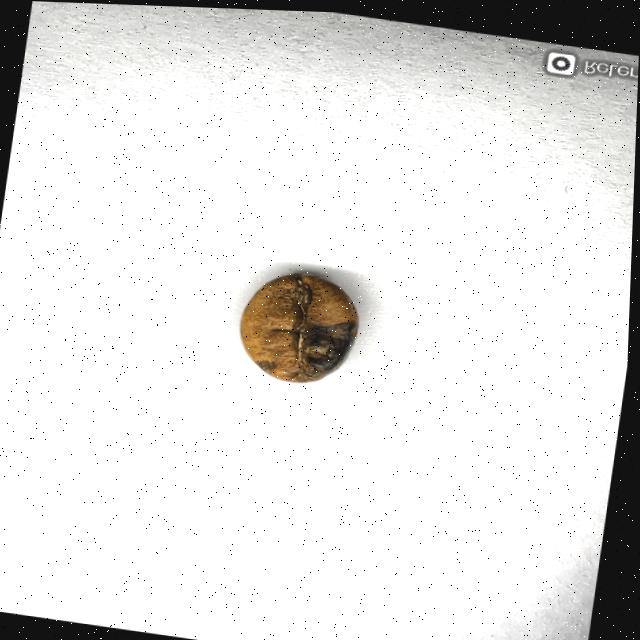Scorched: (233, 261, 369, 390)
